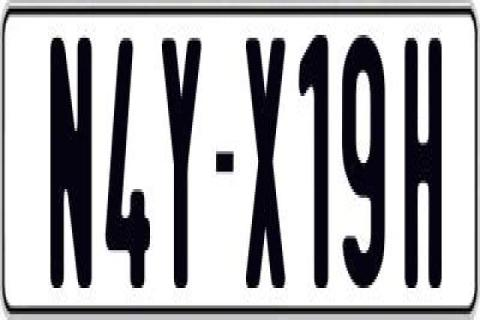0: (104, 32, 152, 288), (338, 32, 382, 296), (296, 35, 328, 291)
H: (400, 38, 444, 297)
N: (50, 38, 90, 288)
X: (243, 35, 290, 297)
Y: (162, 32, 204, 288)
